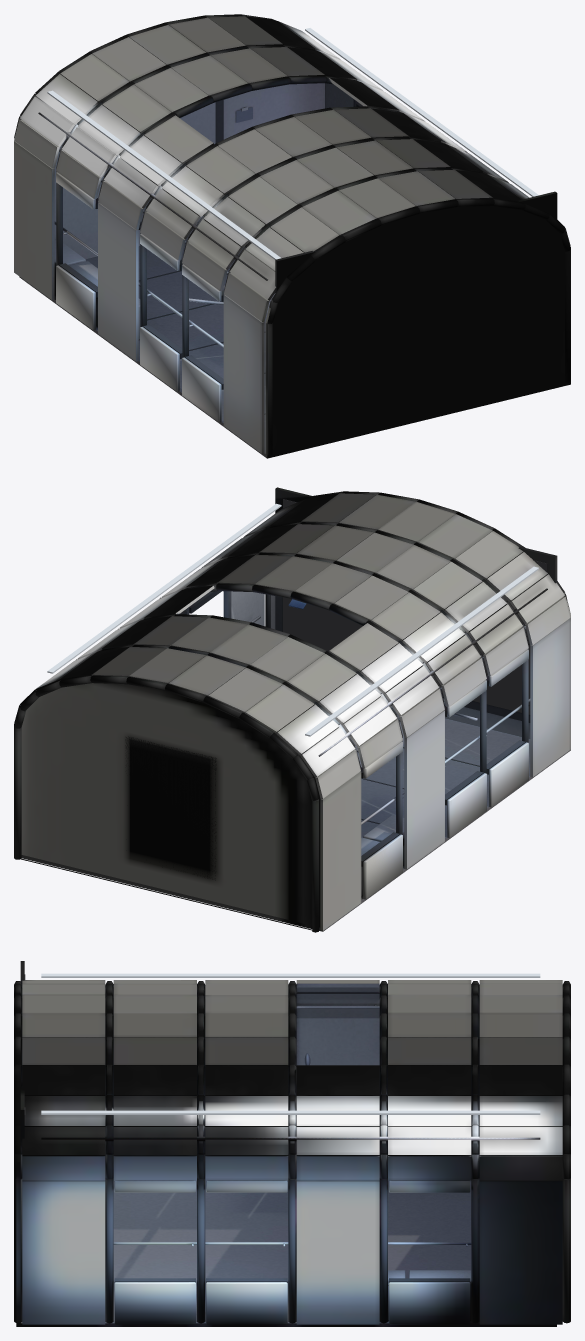
The model's file is station.glb.
3 renders of one model, top to bottom at view 1: azimuth 30°, elevation 25°; view 2: azimuth 150°, elevation 25°; view 3: azimuth 270°, elevation 25°, orthographic. The views are drawn at different scales.
Visible parts, largest first — view 1: hull, lights, things; view 2: hull, lights, things; view 3: hull, lights, things.
Part boxes in pixels (x1=…): hull: x1=14, y1=14, x2=570, y2=458; lights: x1=47, y1=28, x2=538, y2=259; things: x1=38, y1=107, x2=267, y2=347; hull: x1=14, y1=487, x2=570, y2=932; lights: x1=47, y1=499, x2=547, y2=736; things: x1=251, y1=588, x2=547, y2=896; hull: x1=14, y1=961, x2=570, y2=1326; lights: x1=24, y1=973, x2=540, y2=1124; things: x1=41, y1=992, x2=540, y2=1320.
Bounding box in the file's own units: 4.7 × 3.09 × 6.7.
Materials: 8 (2 with a texture image).
